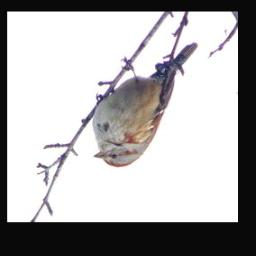Sparrow: (94, 42, 201, 170)
